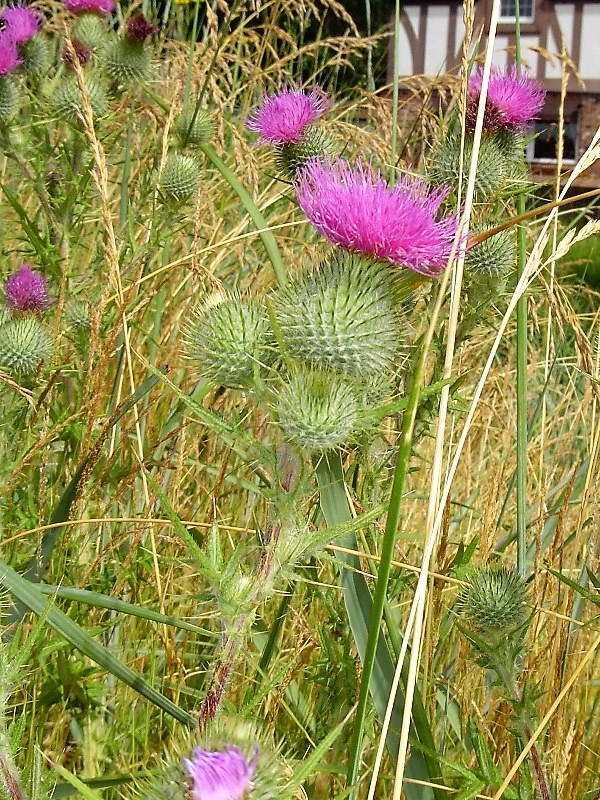bull thistle: (266, 149, 473, 377), (126, 716, 299, 800), (463, 64, 548, 169), (246, 83, 337, 179), (102, 12, 156, 82), (1, 7, 52, 73), (3, 264, 55, 324), (62, 1, 116, 46), (1, 36, 26, 126)
